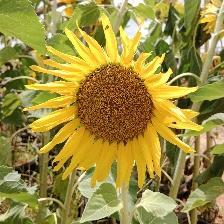sunflower: (33, 26, 197, 188)
